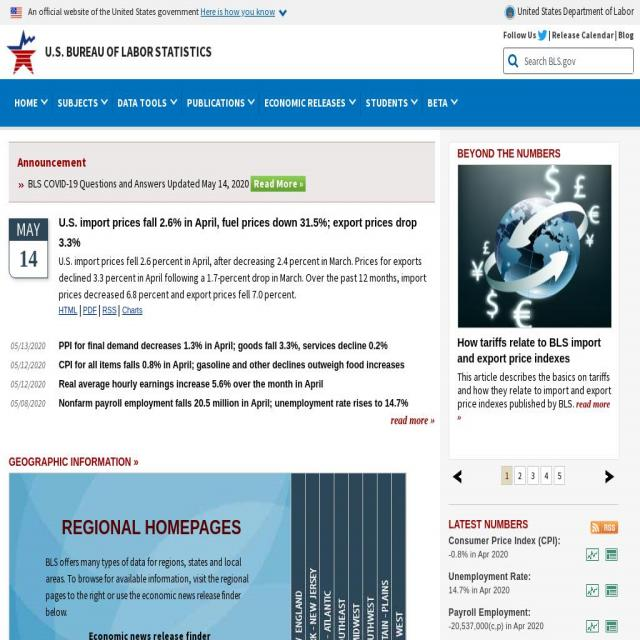follow-options: (492, 23, 640, 45)
list: (444, 510, 626, 640)
navigation-blocks: (446, 140, 619, 493)
navigation-links: (5, 83, 463, 117)
search: (500, 48, 640, 75)
